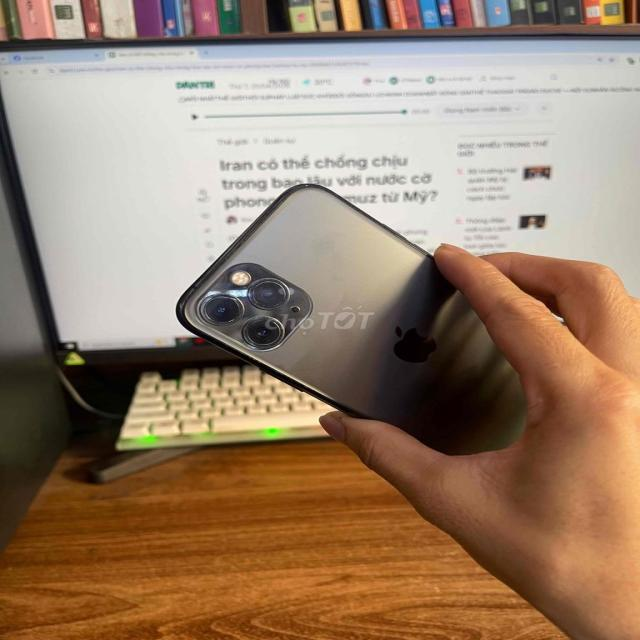gen_11: (175, 169, 595, 475)
